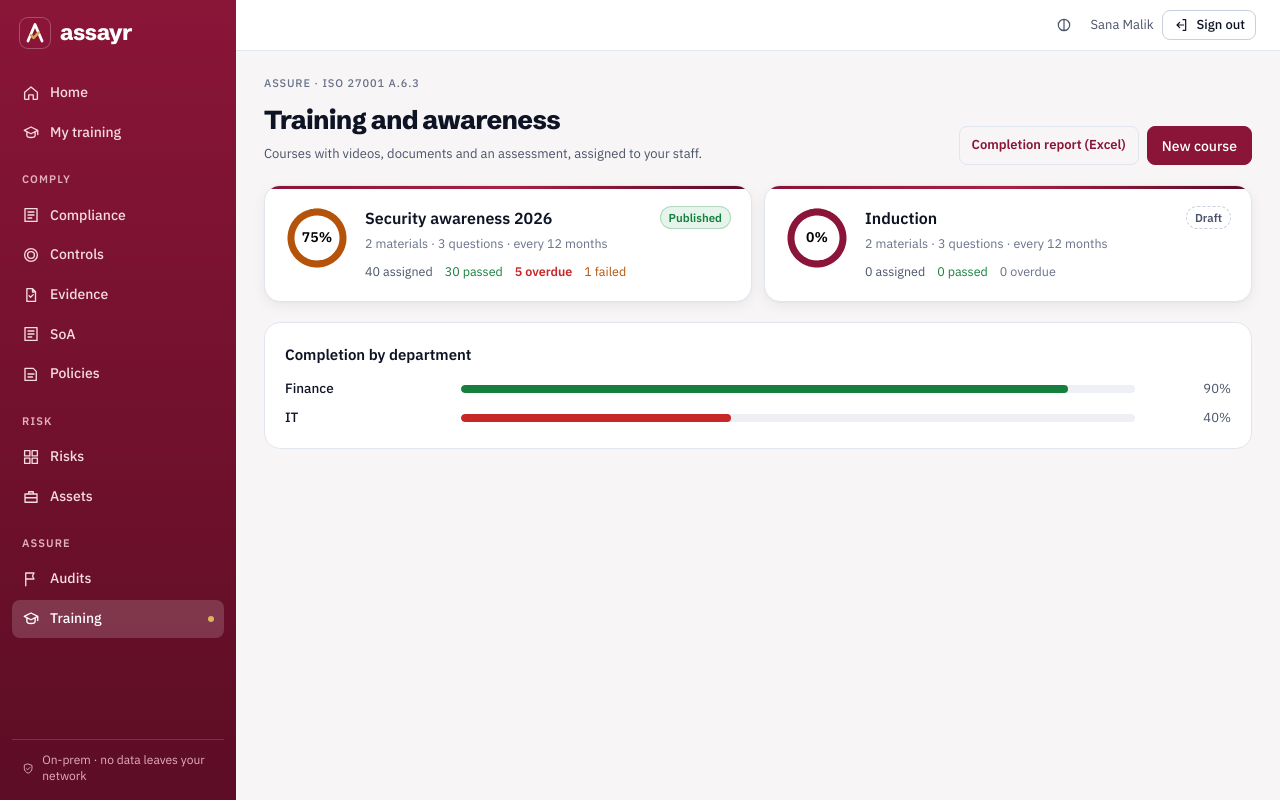
Test: New course creates a draft and opens it
Click the button "New course" at (1199, 146), box [1147,126,1252,165]
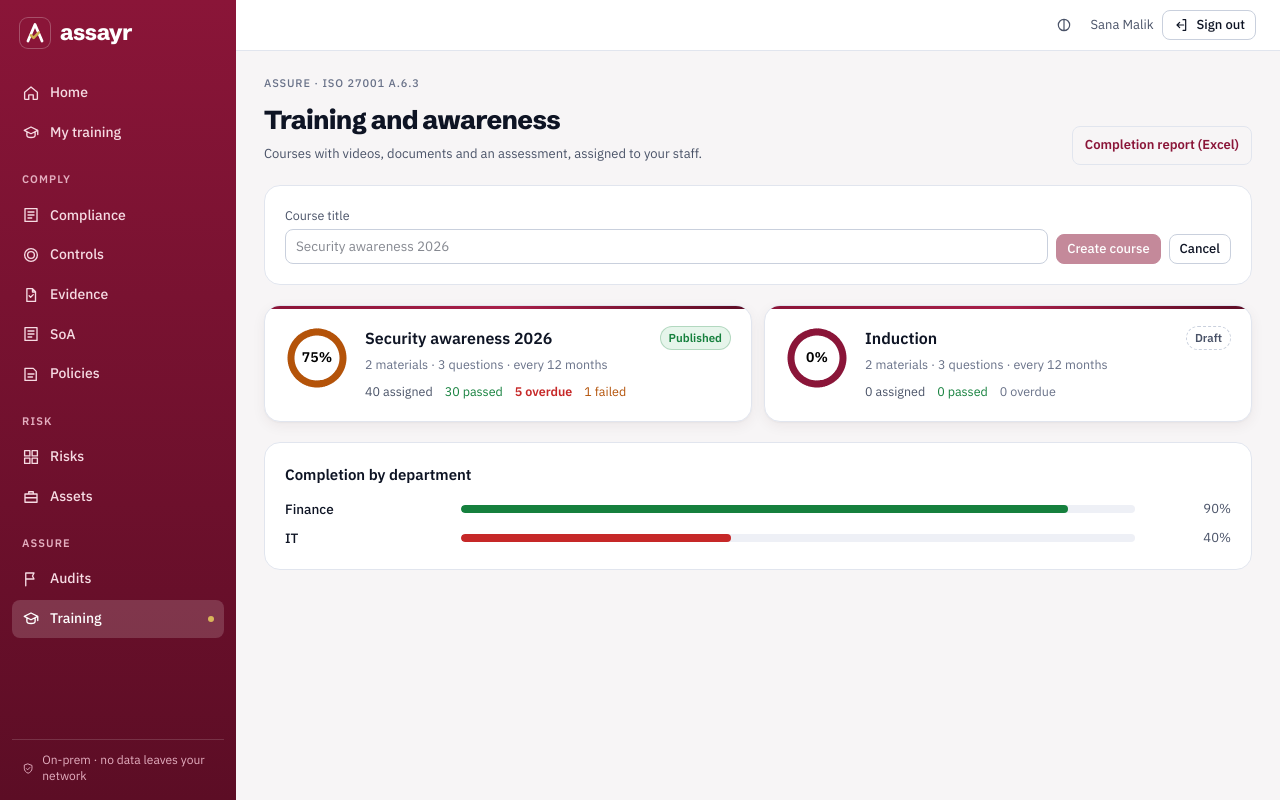
Type "Phishing basics" into the field labelled "Course title" at (667, 246), box [285,229,1048,264]
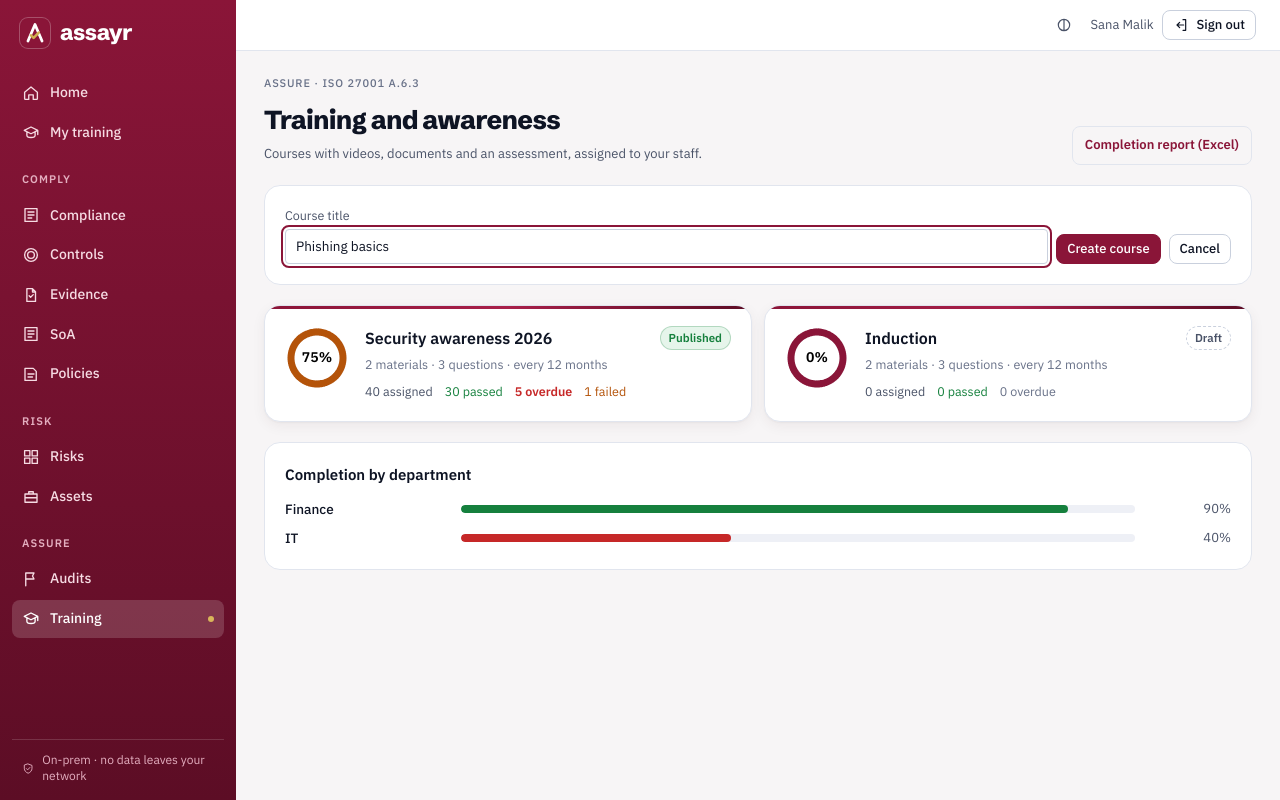
Click the button "Create course" at (1108, 249), box [1056,234,1161,264]
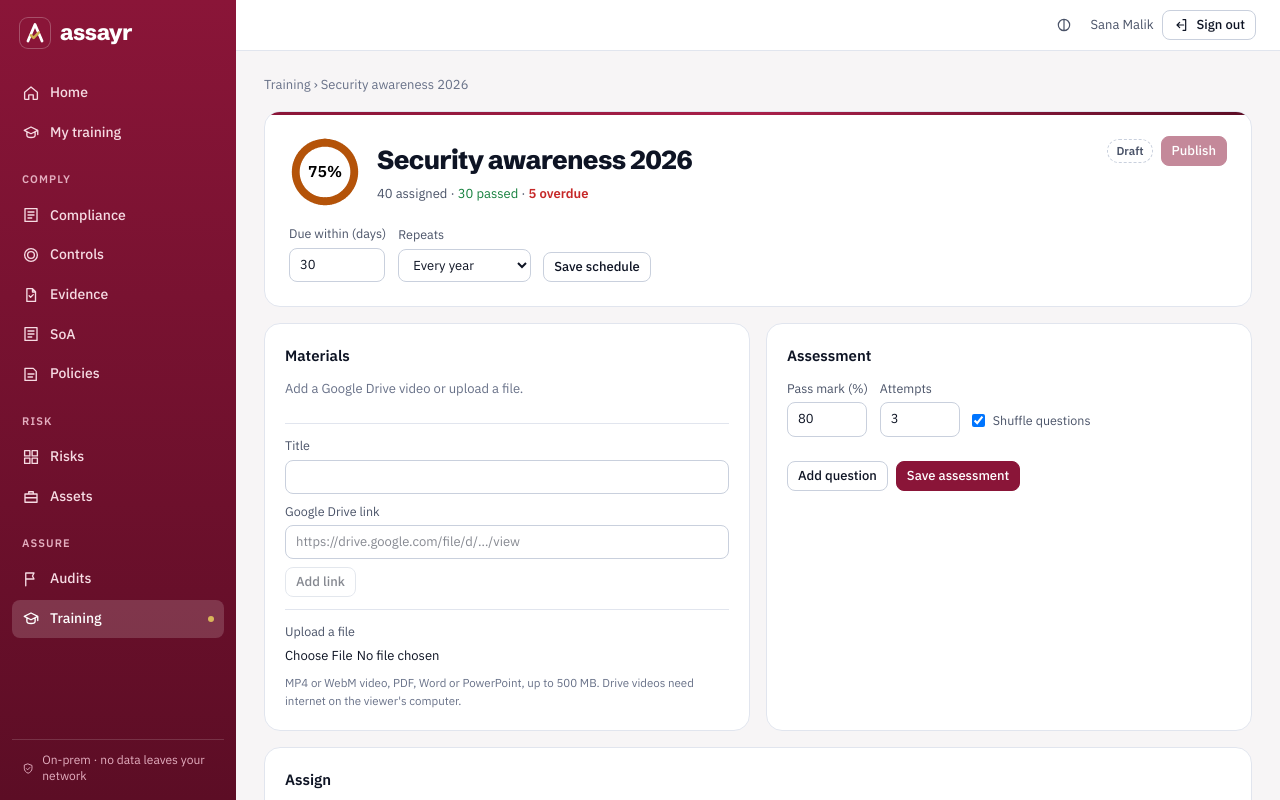
Expected: the heading "Security awareness 2026" is shown, [377,140,692,180]
